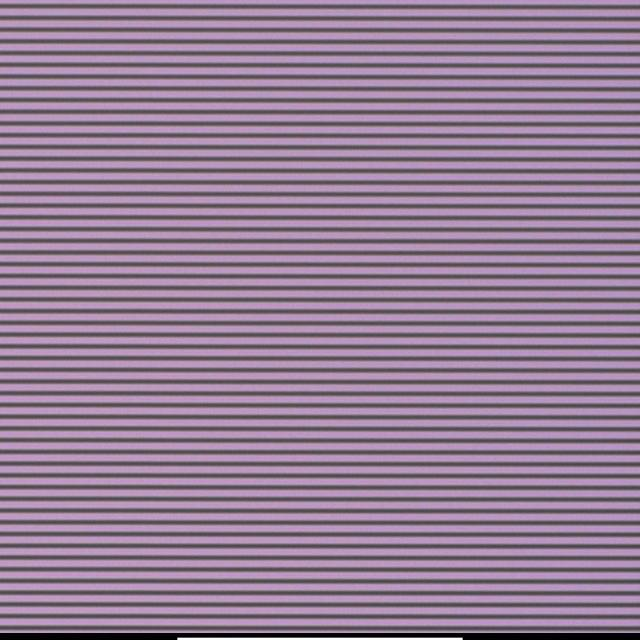nonvisual: (308, 318, 321, 331)
